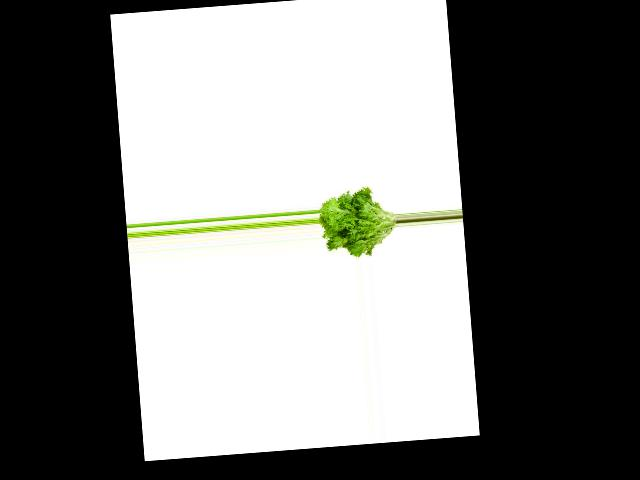lettuce: (317, 184, 401, 263)
